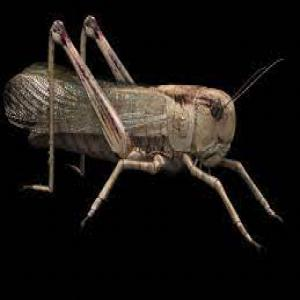locust: (1, 45, 264, 263)
